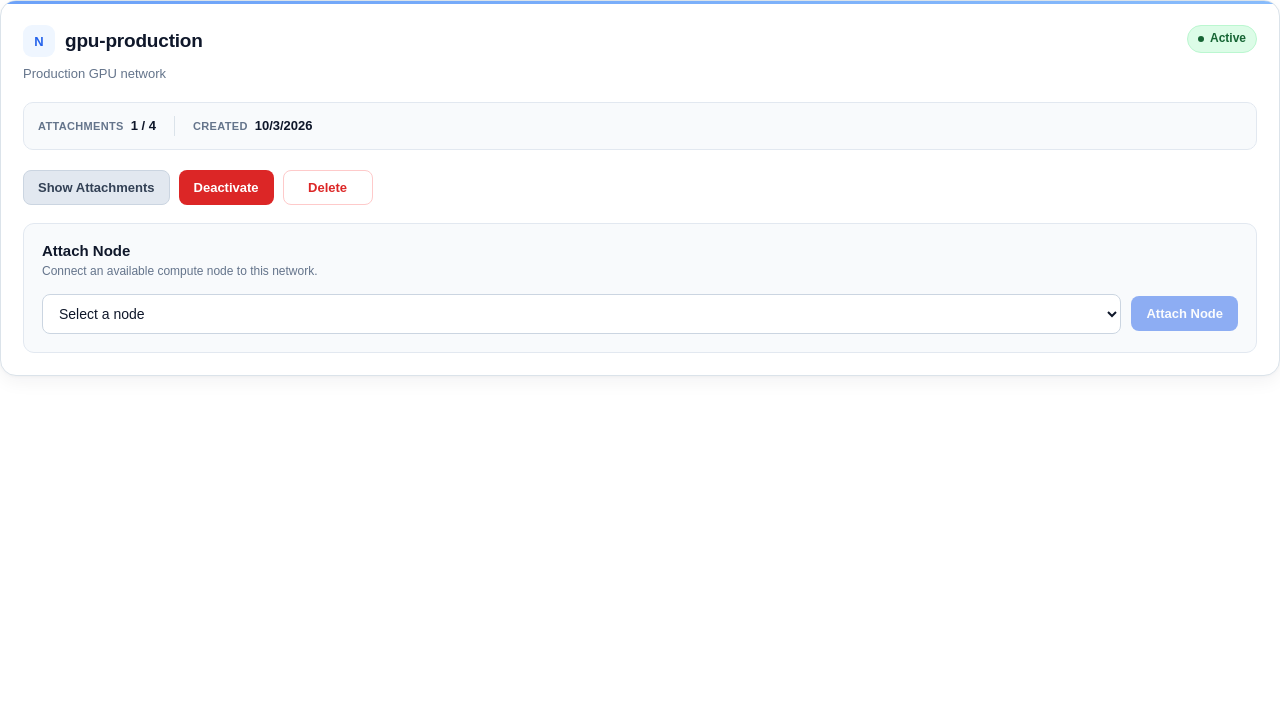
NetworkCard › hides attachments when Hide attachments is clicked
This screenshot has width=1280, height=720.
Click the button "Show Attachments" at (96, 187), box [23, 170, 170, 204]
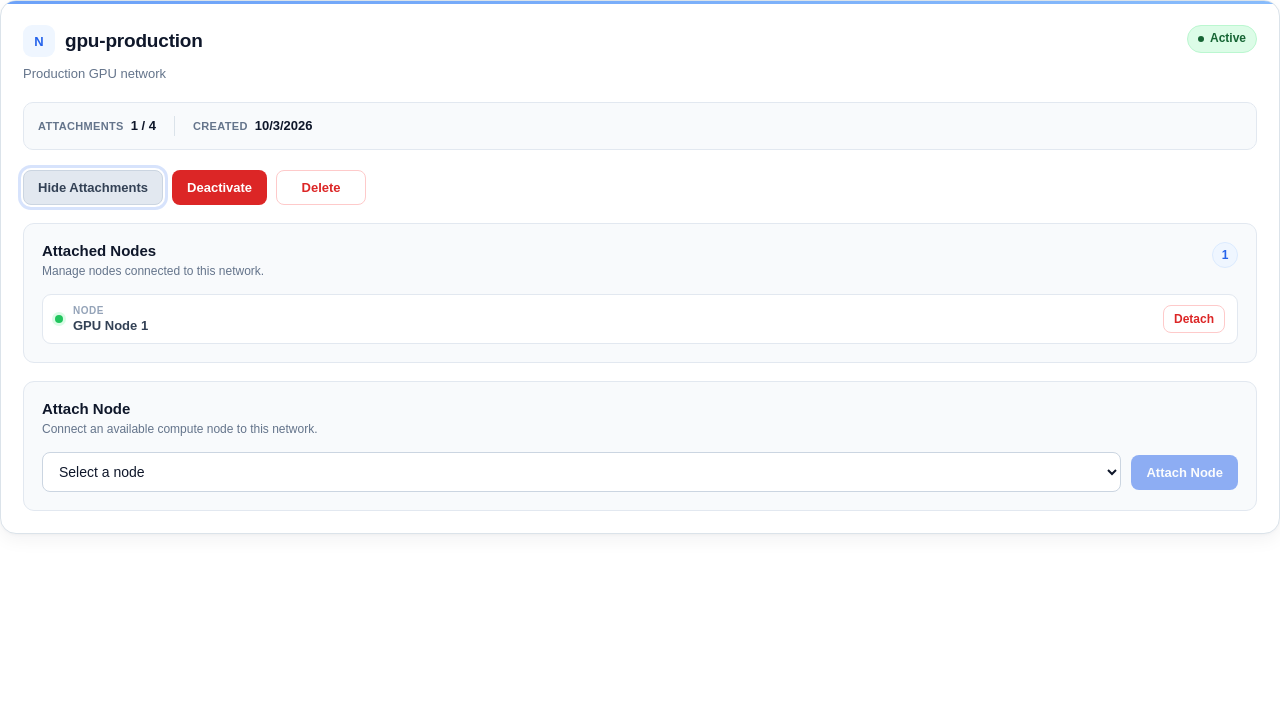
Expected: the text "GPU Node 1" is shown, [73, 318, 148, 333]
Click the button "Hide Attachments" at (93, 187), box [23, 170, 163, 204]
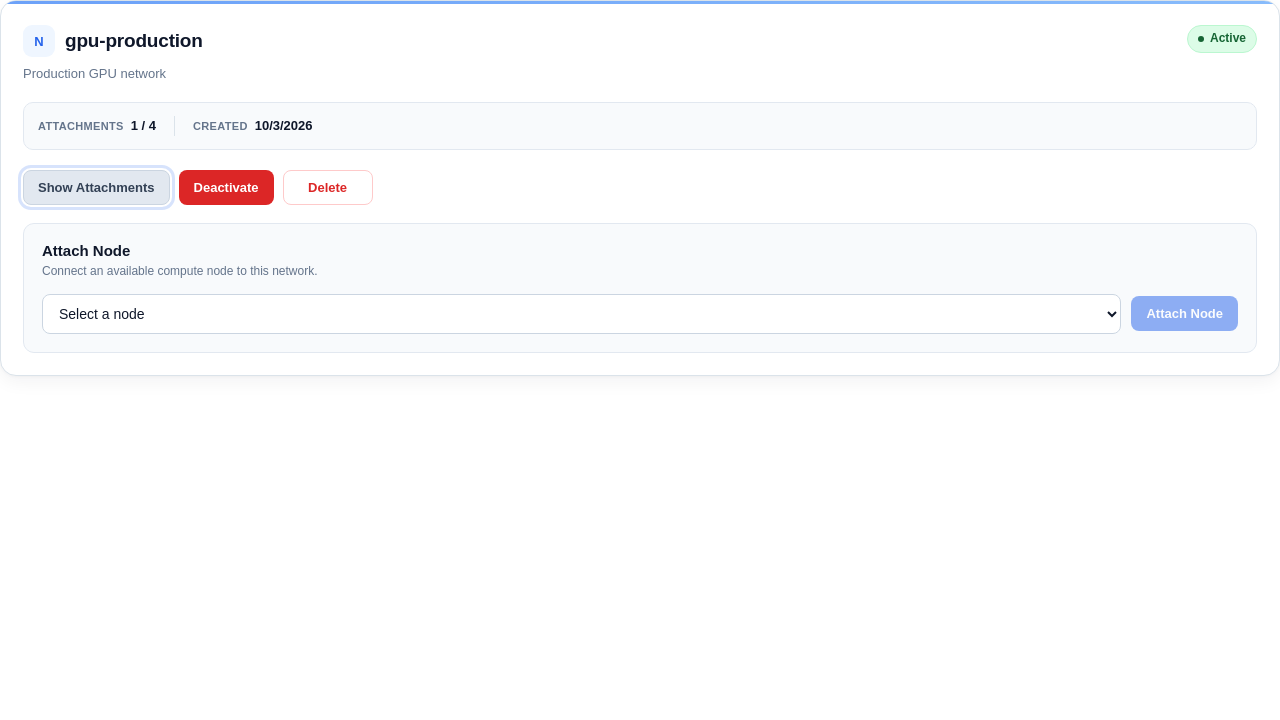
Expected: the text "GPU Node 1" is gone
Expected: the button "Show Attachments" is shown, [23, 170, 170, 204]
